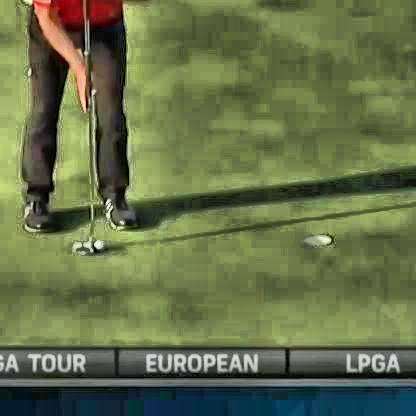golfball: (92, 236, 105, 249)
